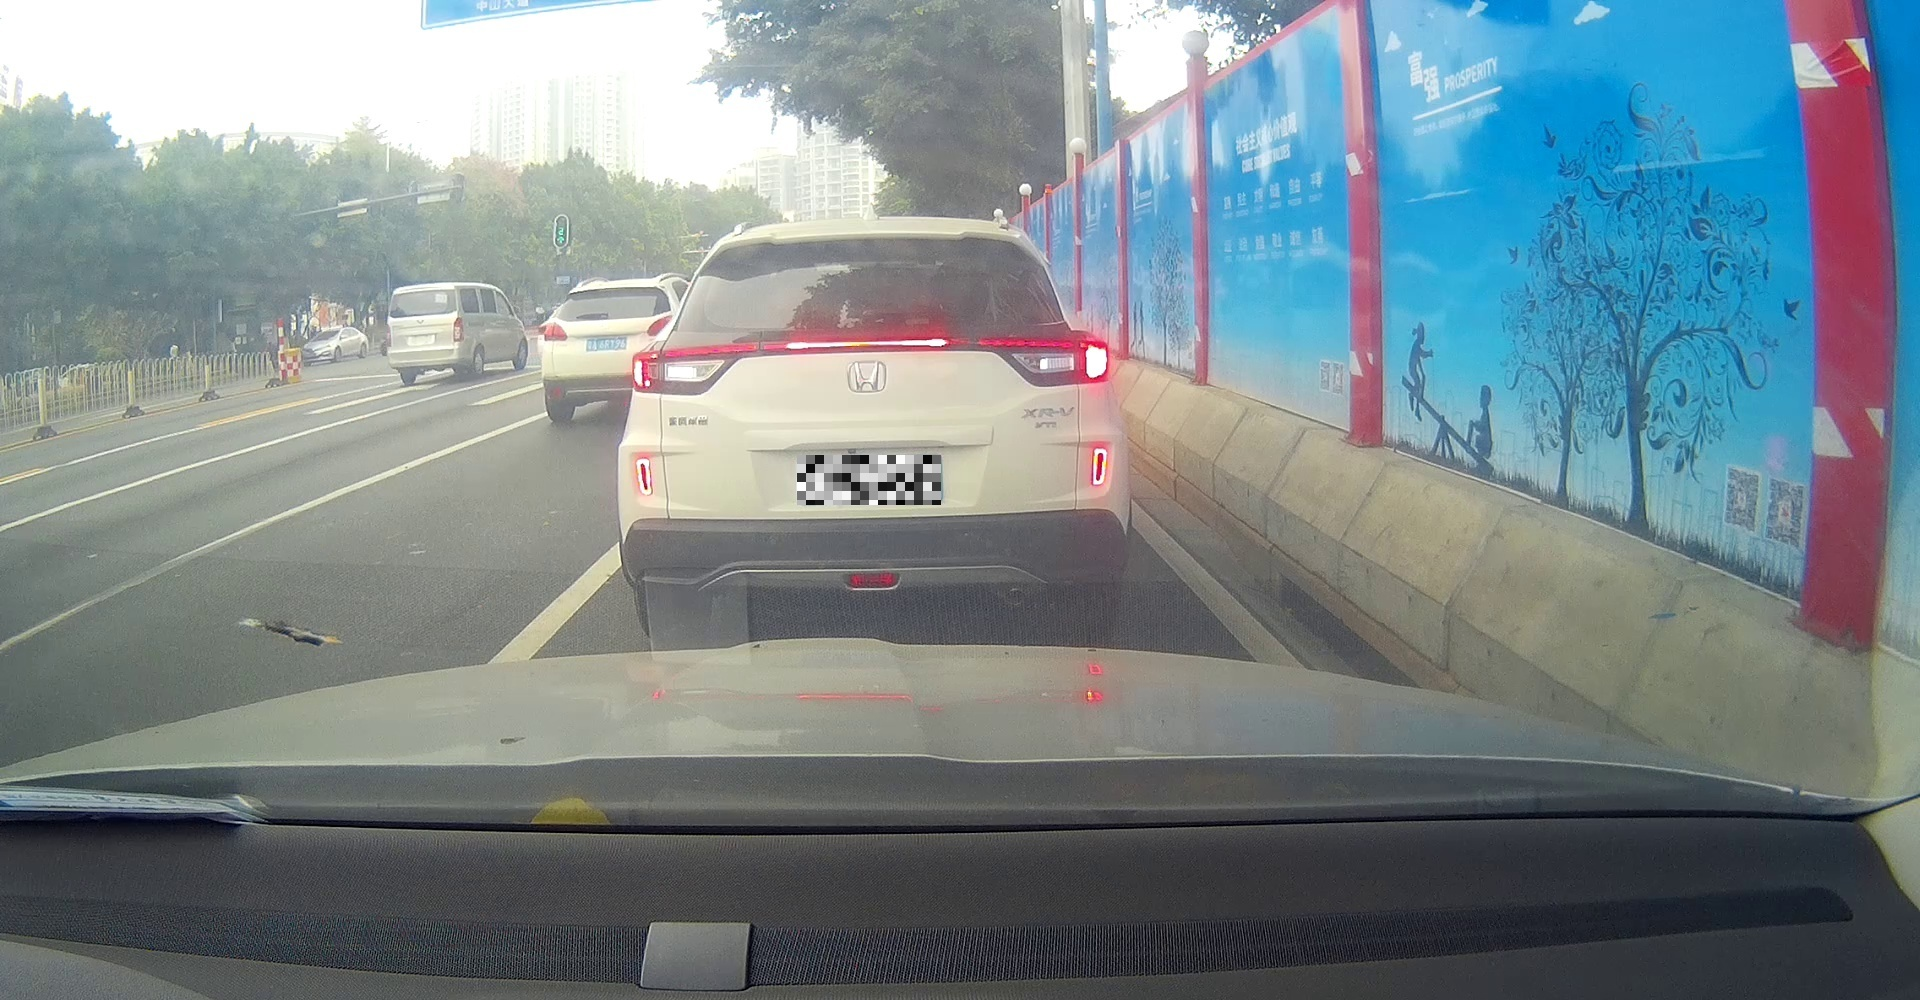L_light: (630, 345, 740, 396), (386, 324, 392, 346)
R_light: (990, 336, 1109, 388), (453, 319, 462, 341)
T_light: (781, 338, 949, 350), (413, 292, 428, 294)
day-brake: (617, 218, 1128, 638)
day-no: (386, 283, 463, 385)
plate_1: (797, 456, 941, 505)
